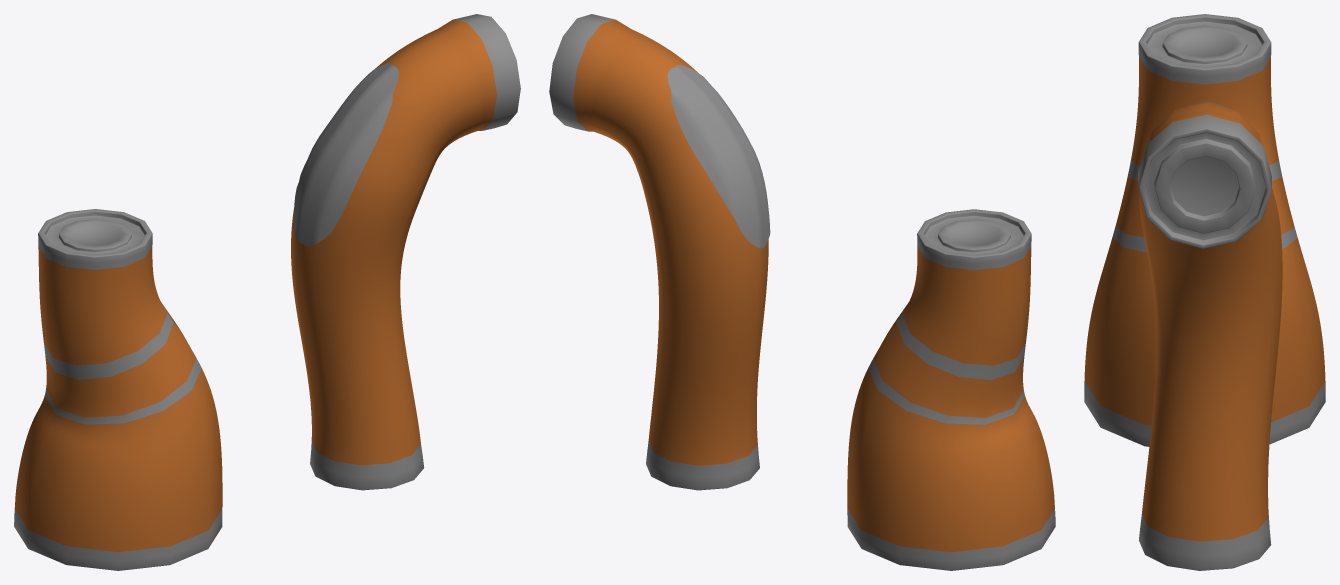
Rendered from Kuka2.fbx.
3 views of the same model, side by side, from view 1: azimuth 30°, elevation 25°; view 2: azimuth 150°, elevation 25°; view 3: azimuth 270°, elevation 25° (orthographic). The views are drawn at different scales.
Parts seen in each view (by area): view 1: BaseNew, JointNew; view 2: BaseNew, JointNew; view 3: JointNew, BaseNew.
Part boxes in pixels (bbox=[...]): BaseNew: bbox=[14, 209, 222, 570]; JointNew: bbox=[291, 14, 520, 490]; BaseNew: bbox=[847, 209, 1055, 570]; JointNew: bbox=[549, 14, 770, 490]; JointNew: bbox=[1138, 101, 1282, 570]; BaseNew: bbox=[1084, 14, 1325, 446].
Bounding box in the file's own units: 742 × 639 × 288.
